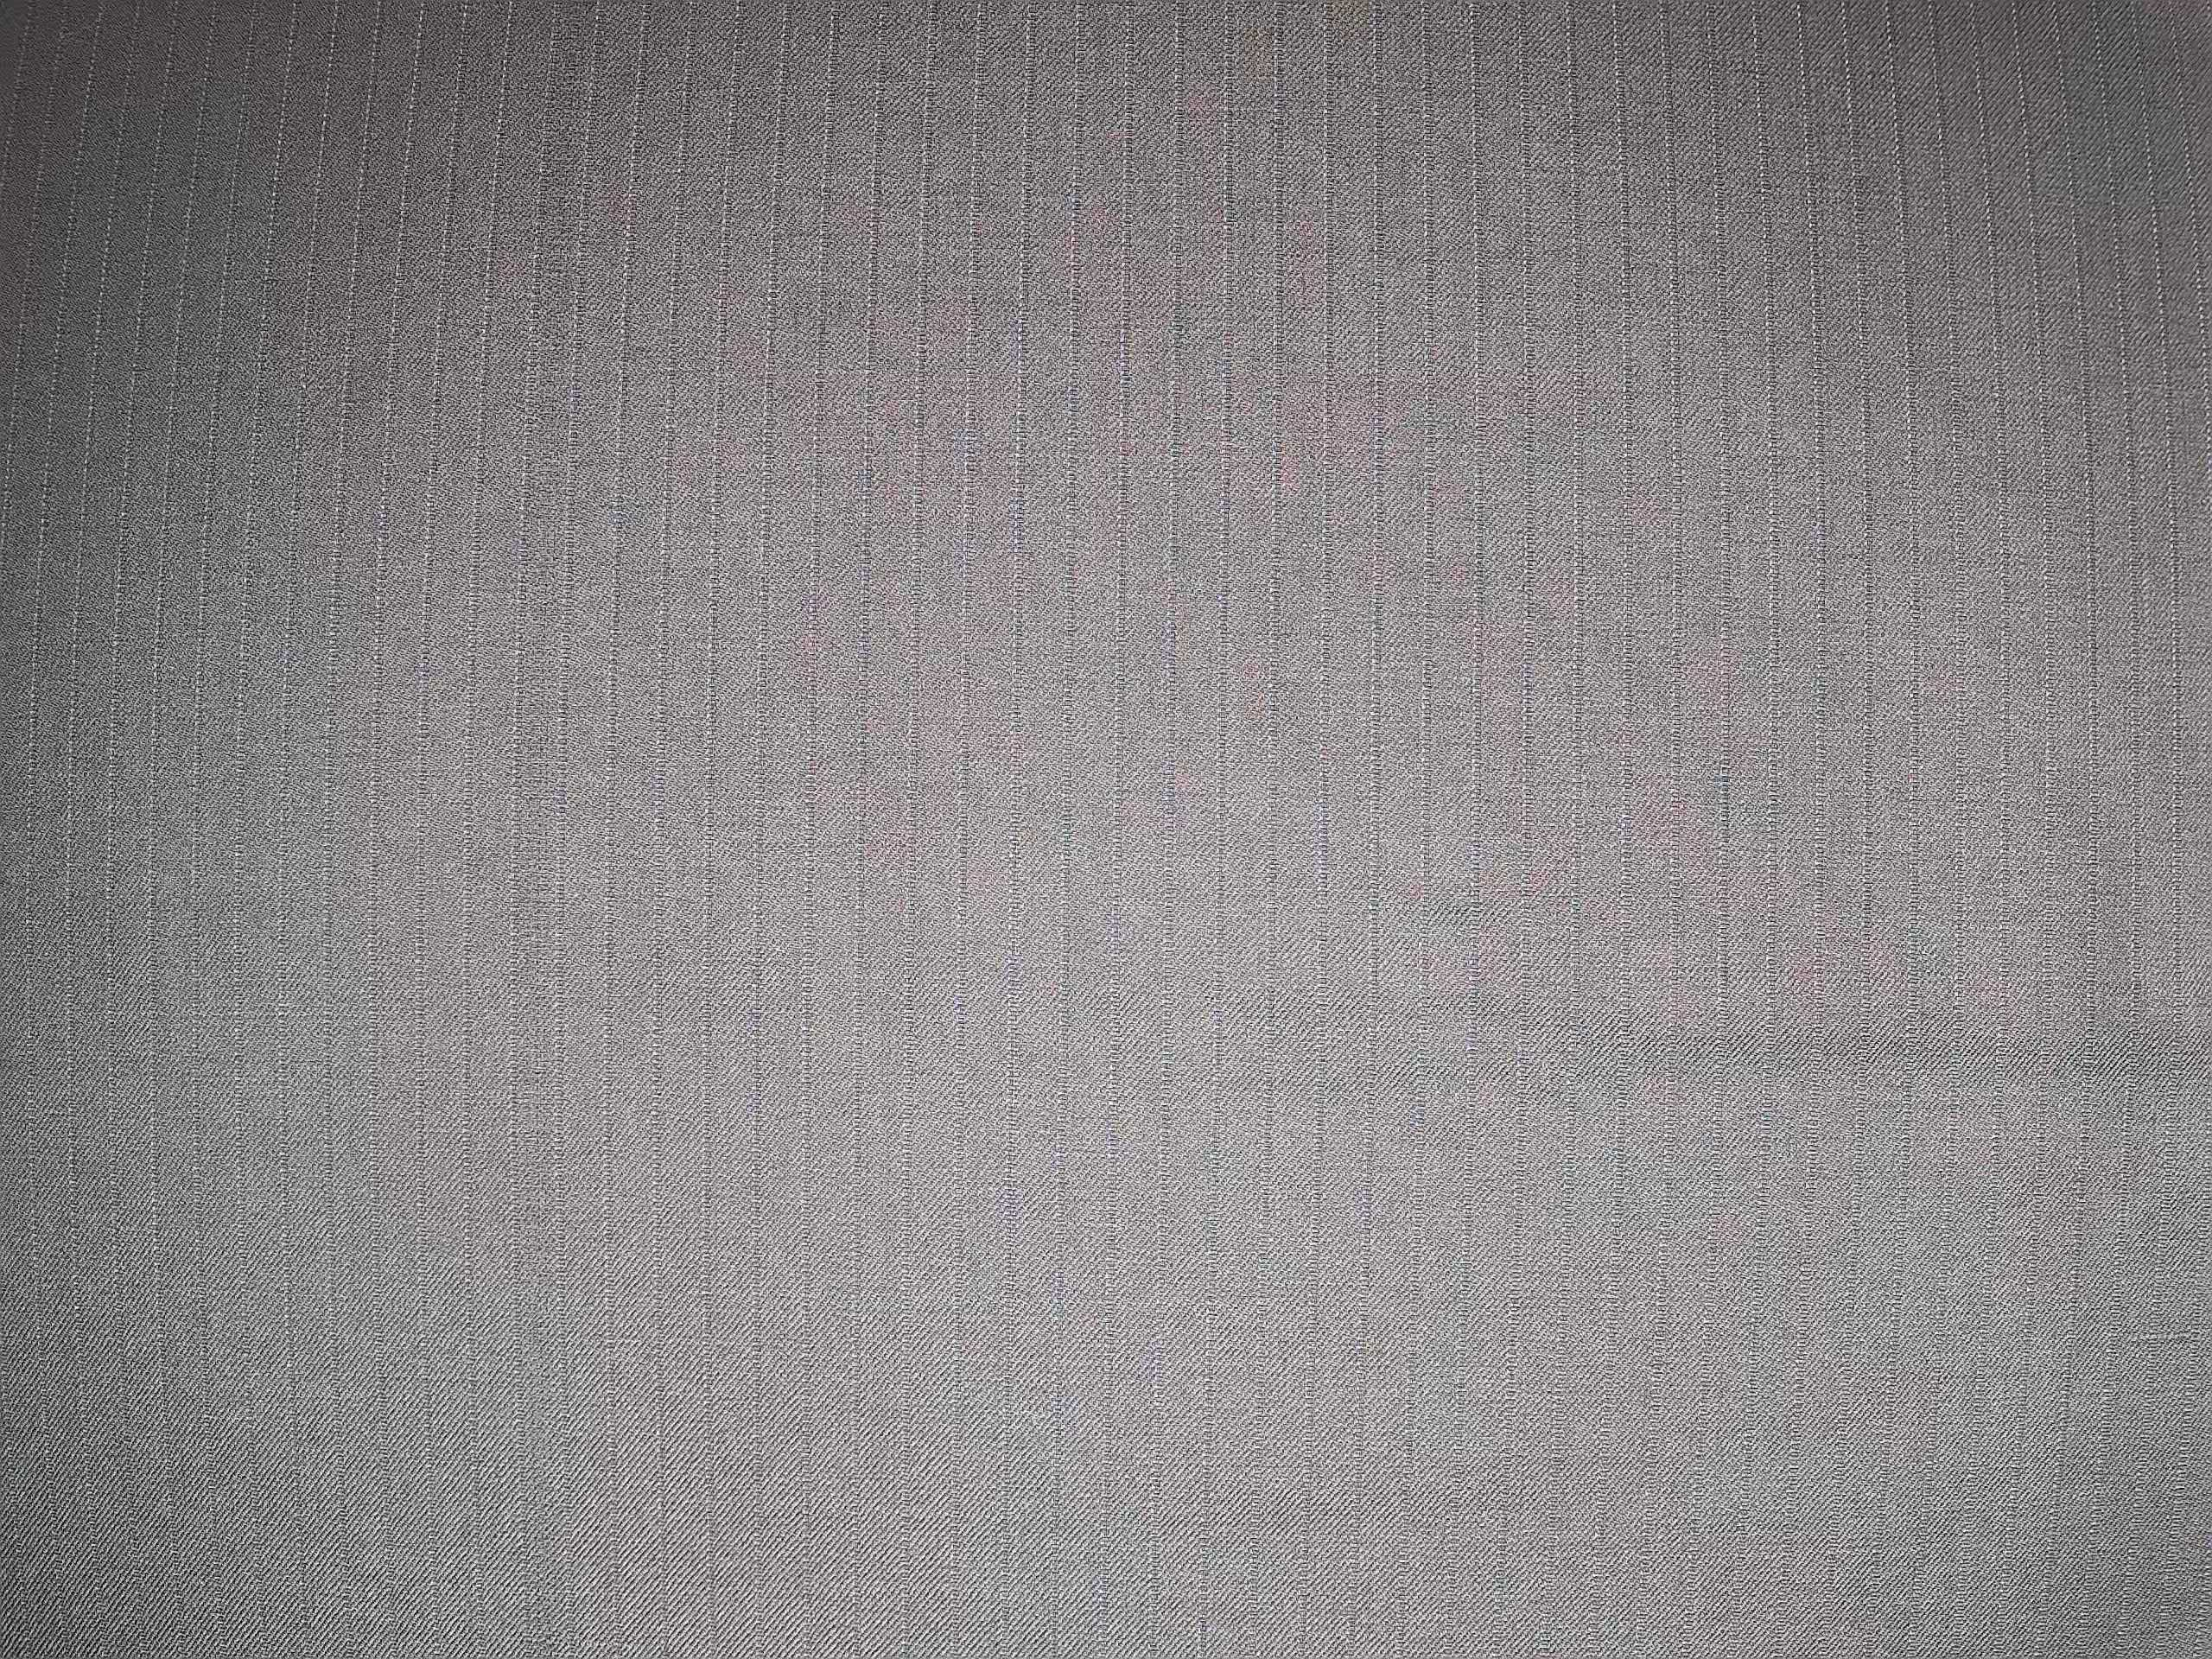jumps: (507, 10, 597, 1645)
